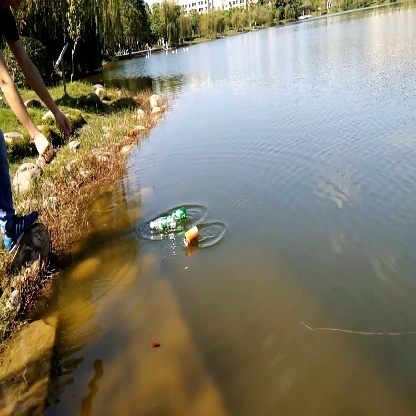bottle: (181, 223, 203, 249)
